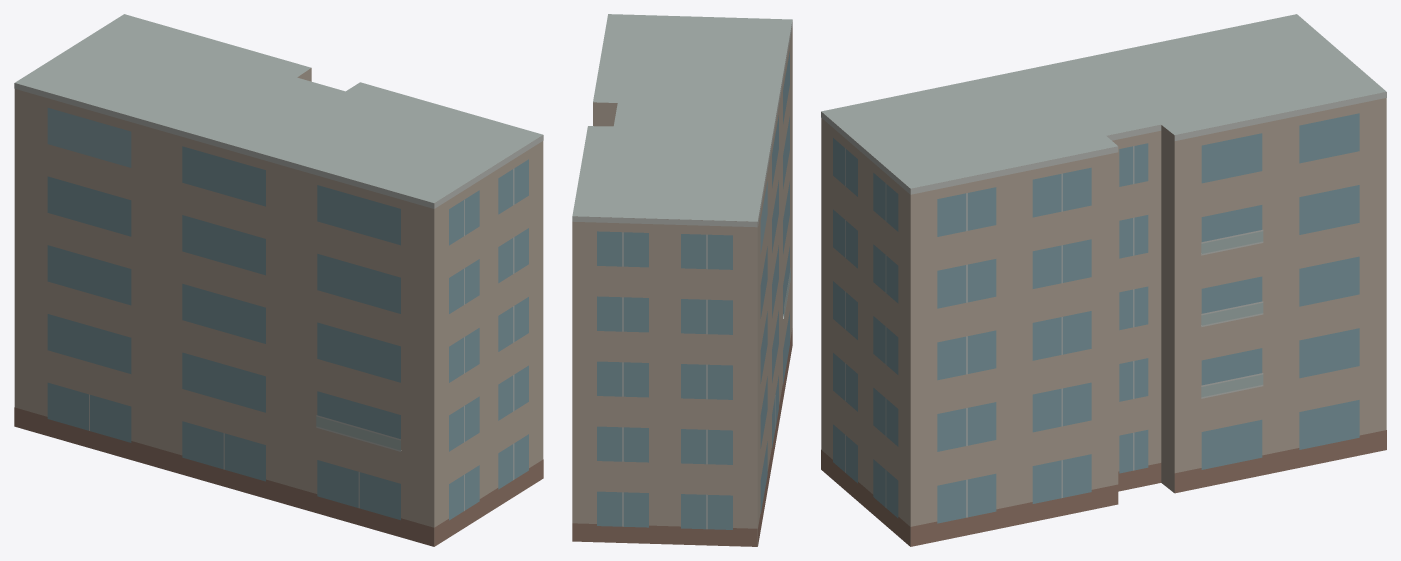
File: survey-upis-32743134.glb
3 views of the same model, side by side, from view 1: azimuth 30°, elevation 25°; view 2: azimuth 150°, elevation 25°; view 3: azimuth 270°, elevation 25° (orthographic). The views are drawn at different scales.
Parts seen in each view (by area): view 1: survey-upis-32743134.tmp; view 2: survey-upis-32743134.tmp; view 3: survey-upis-32743134.tmp.
Part boxes in pixels (left/top/right/bottom): survey-upis-32743134.tmp: left=14, top=14, right=543, bottom=546; survey-upis-32743134.tmp: left=572, top=14, right=792, bottom=546; survey-upis-32743134.tmp: left=821, top=14, right=1386, bottom=546.
Size of the model in its own units: 15.13 by 14.45 by 20.69.
